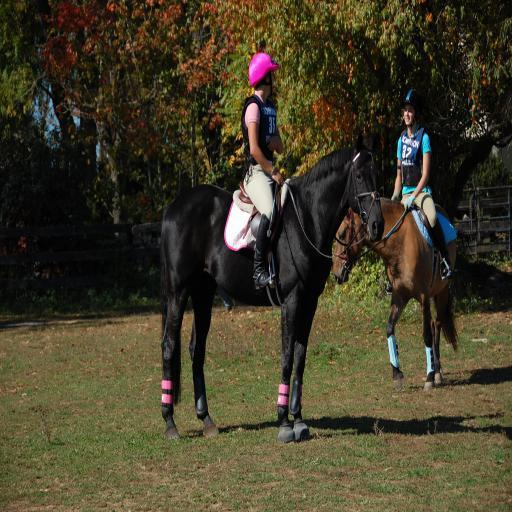horse: (159, 132, 385, 444), (331, 193, 461, 392)
